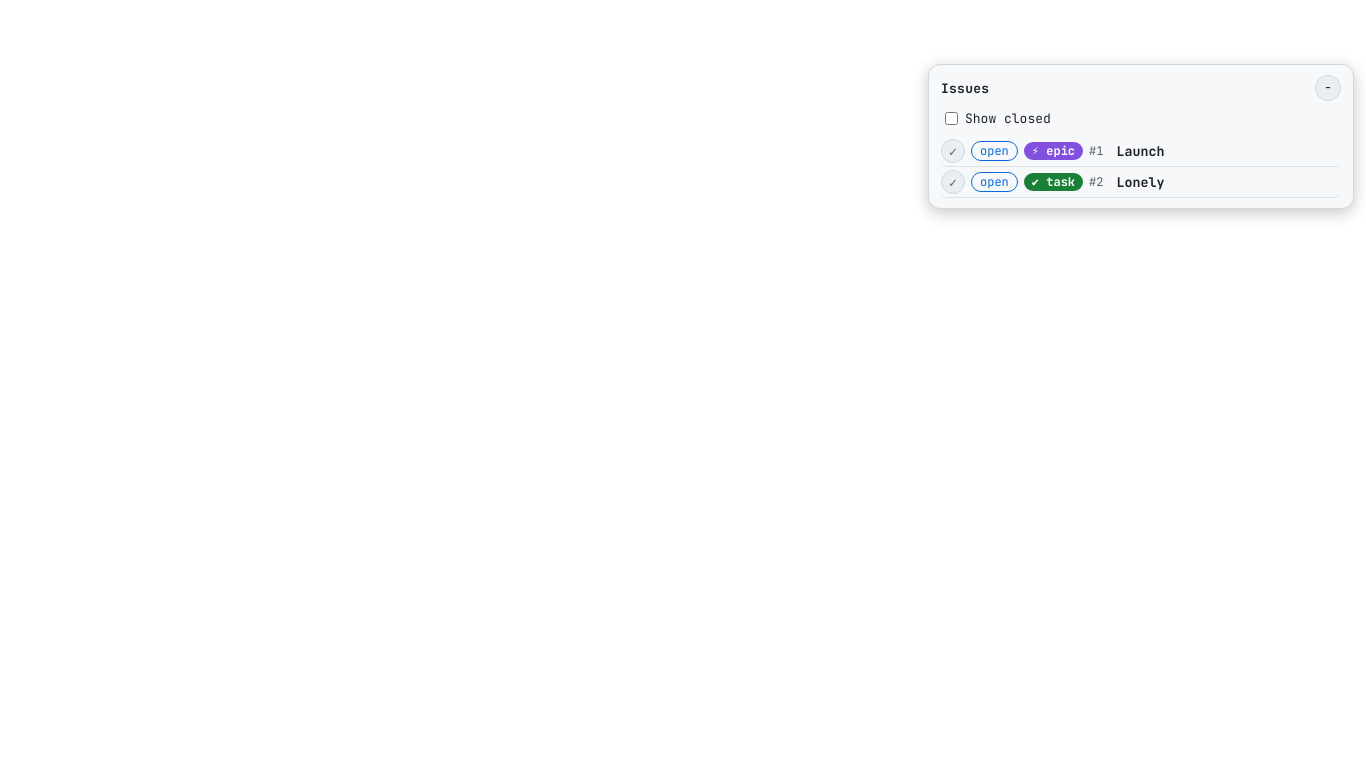
Scenario: IssuesPanel › shows closed issues on toggle and opens the edit popup
Click the checkbox labelled "Show closed". click: (952, 118)
box: [945,112,958,125]
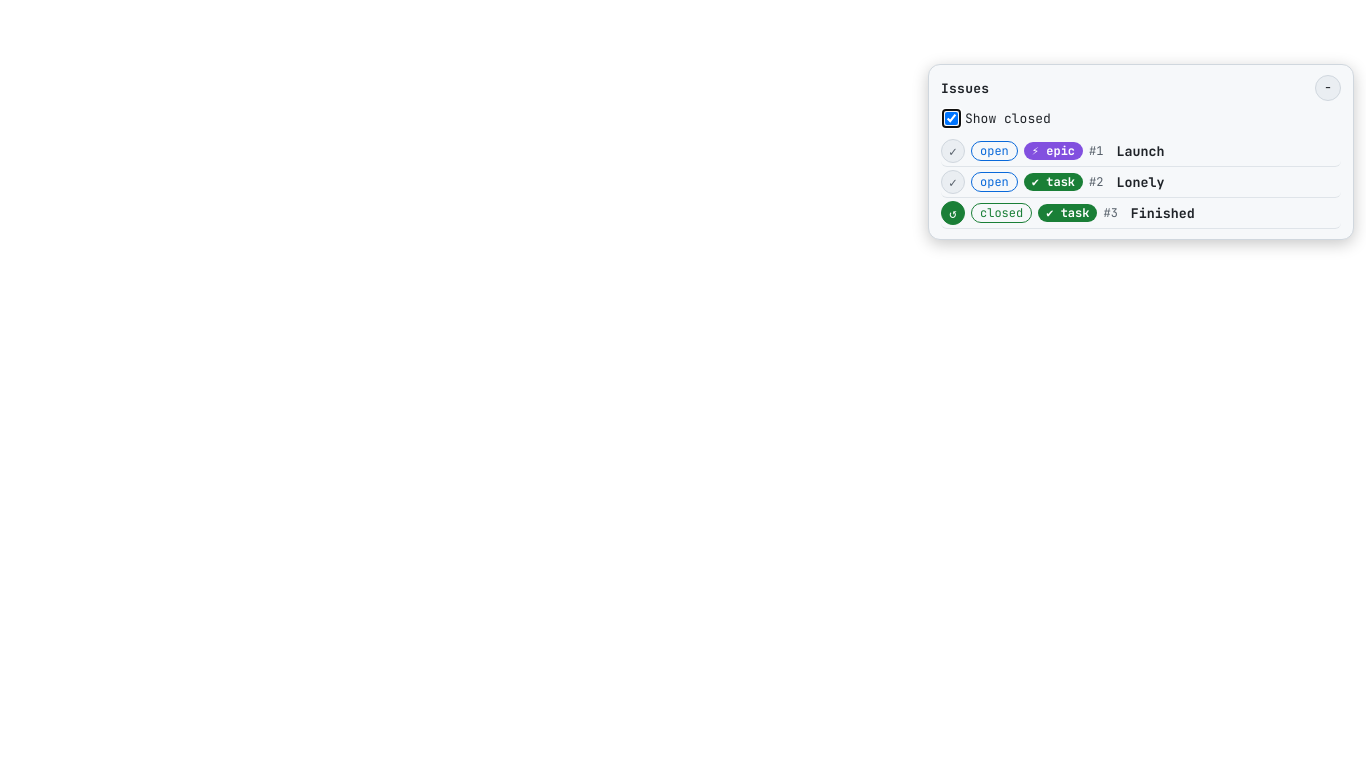
Expected: the button with aria-label "Select issue Finished" is shown, [1124,201,1341,225]
Click the button with aria-label "Select issue Launch". click: (1225, 151)
box: [1110,139,1341,163]
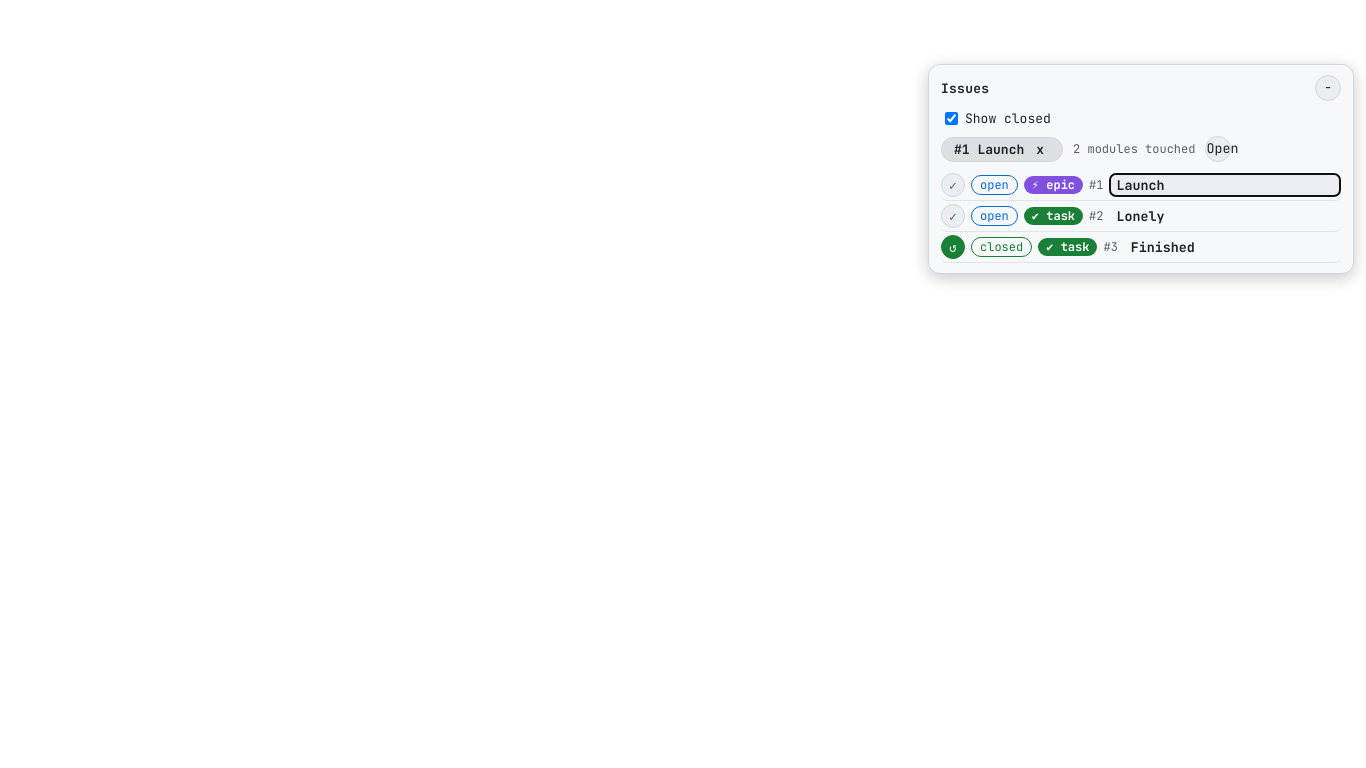
Click the button "Open". click: (1218, 149)
box: [1206,136,1232,162]
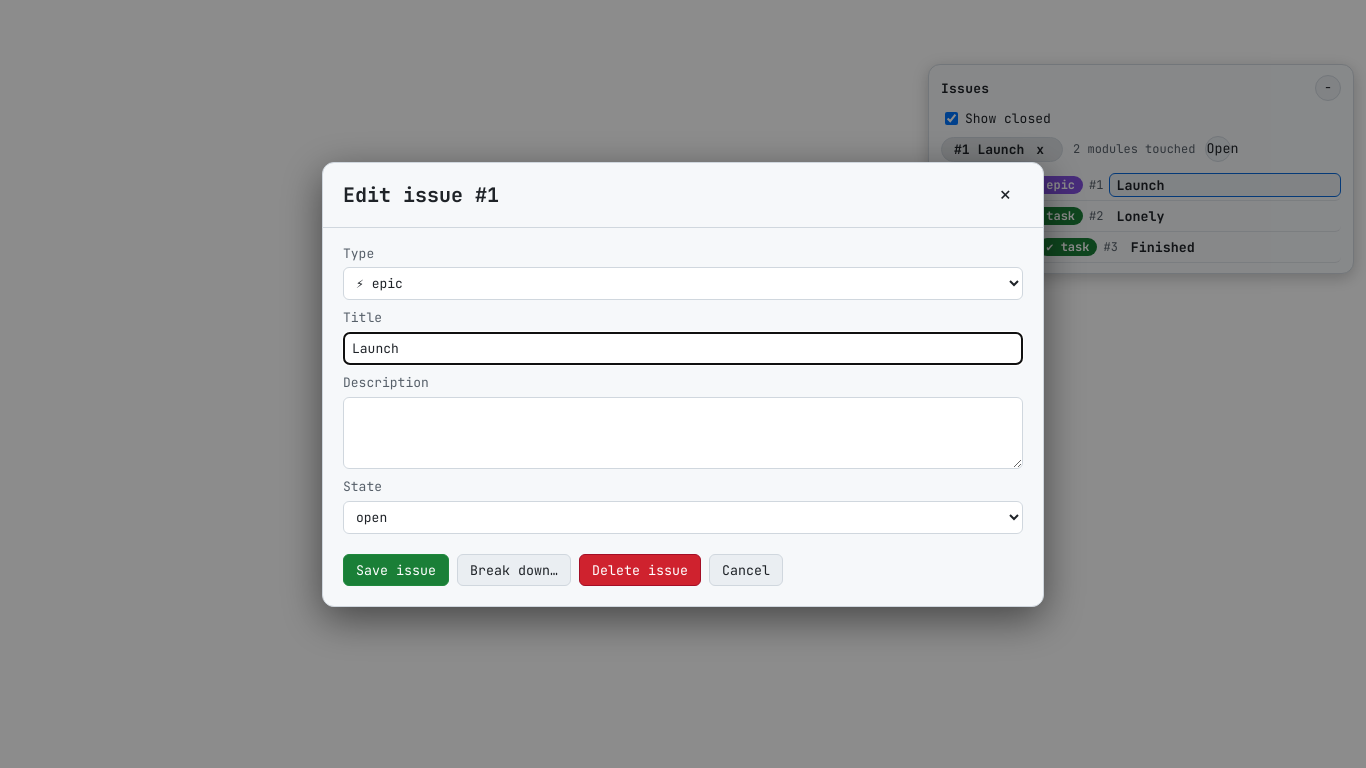
Expected: the heading "Edit issue #1" is shown, [343,182,499,208]
